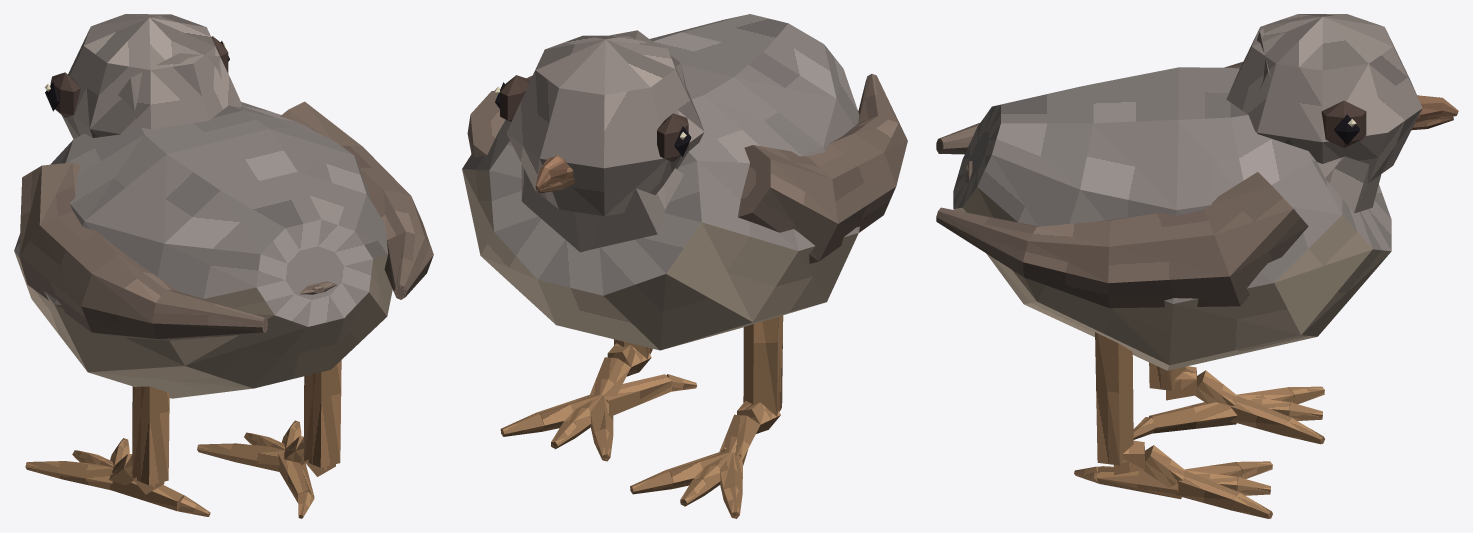
Rendered from mon_woodpecker_chick.glb.
The picture shows the model from 3 angles, left to right: view 1: azimuth 30°, elevation 25°; view 2: azimuth 150°, elevation 25°; view 3: azimuth 270°, elevation 25°; orthographic projection. The views are drawn at different scales.
Visible parts, largest first — view 1: closed_body; view 2: closed_body; view 3: closed_body.
Part boxes in pixels (box(x1,y1,x2,y2)): closed_body: box(14, 14, 433, 518); closed_body: box(462, 14, 907, 518); closed_body: box(936, 14, 1458, 518).
Bounding box in the file's own units: 0.0347 × 0.0404 × 0.0431.
Materials: 1 (1 with a texture image).
